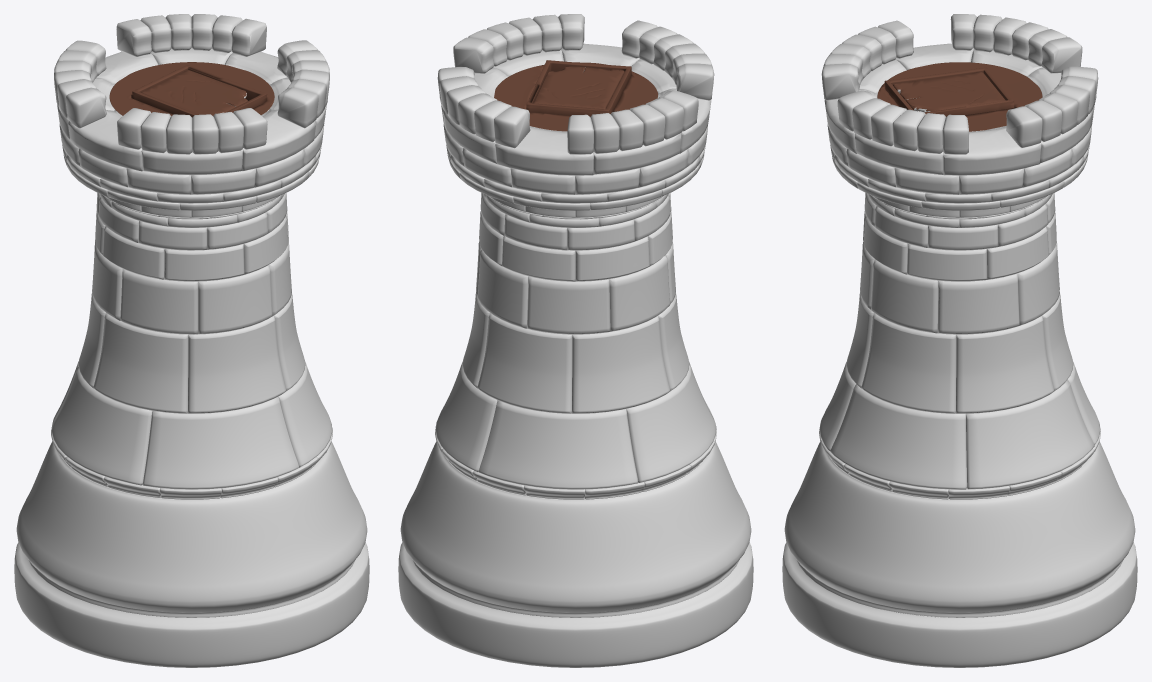
File: ChessRook.fbx
3 renders of one model, left to right at view 1: azimuth 30°, elevation 25°; view 2: azimuth 150°, elevation 25°; view 3: azimuth 270°, elevation 25°, orthographic.
Parts seen in each view (by area): view 1: chess.rook.individualrocks; view 2: chess.rook.individualrocks; view 3: chess.rook.individualrocks.
Boxes of the visible parts, x1,y1,x2,y2 form: chess.rook.individualrocks: (14, 14, 369, 667); chess.rook.individualrocks: (398, 14, 753, 667); chess.rook.individualrocks: (782, 14, 1137, 667).
Size of the model in its own units: 4.64 by 7.61 by 4.64.
